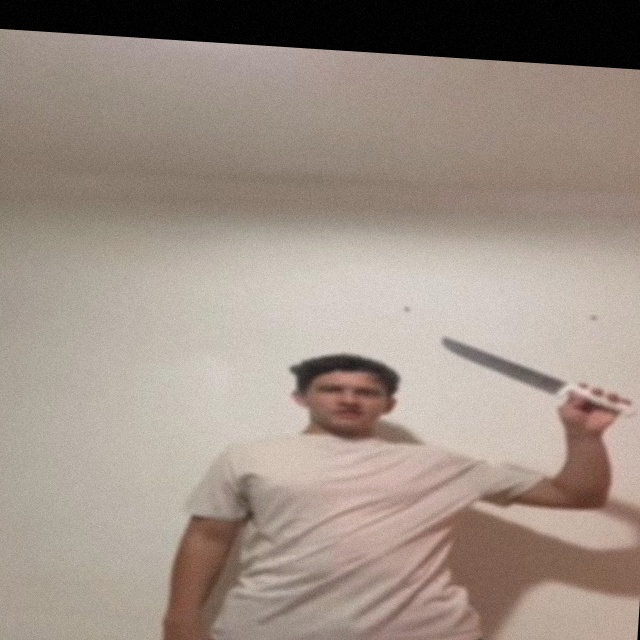Sharp-Object: (435, 334, 571, 393)
